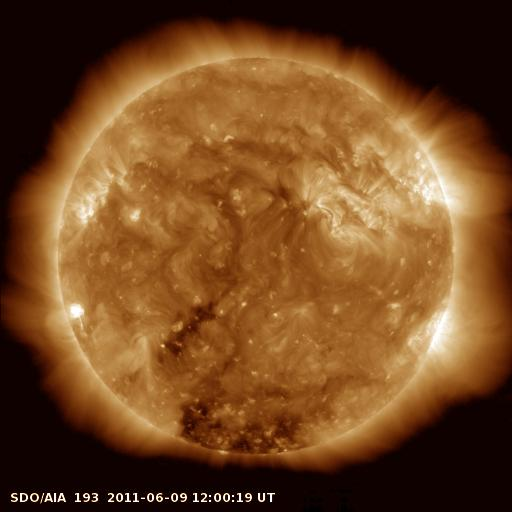coronal_hole: (178, 392, 316, 460), (162, 300, 222, 357)
